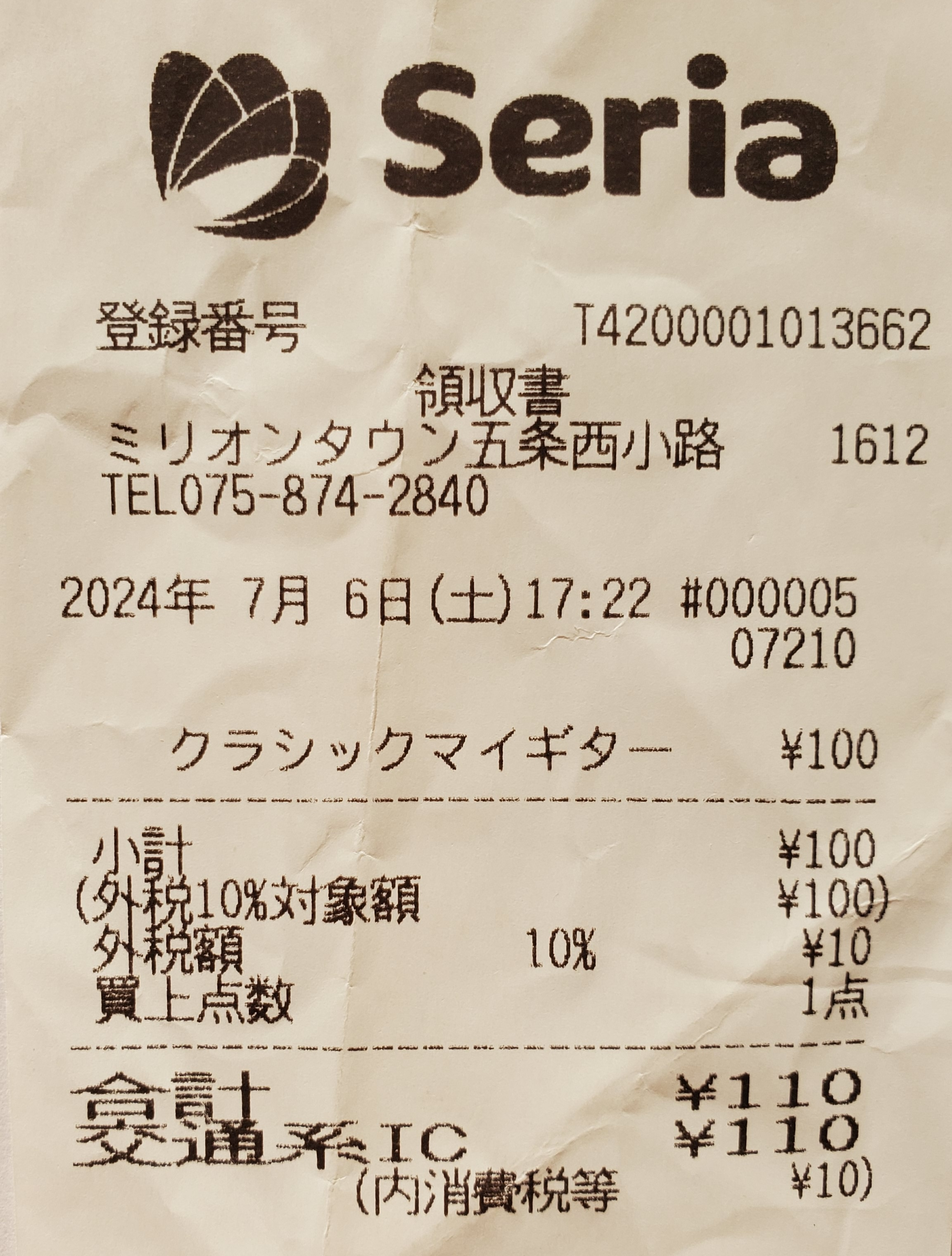Date: (51, 566, 426, 636)
Shopname: (360, 38, 864, 223)
Telnum: (175, 467, 500, 523)
Totalpay: (73, 1059, 882, 1119)
